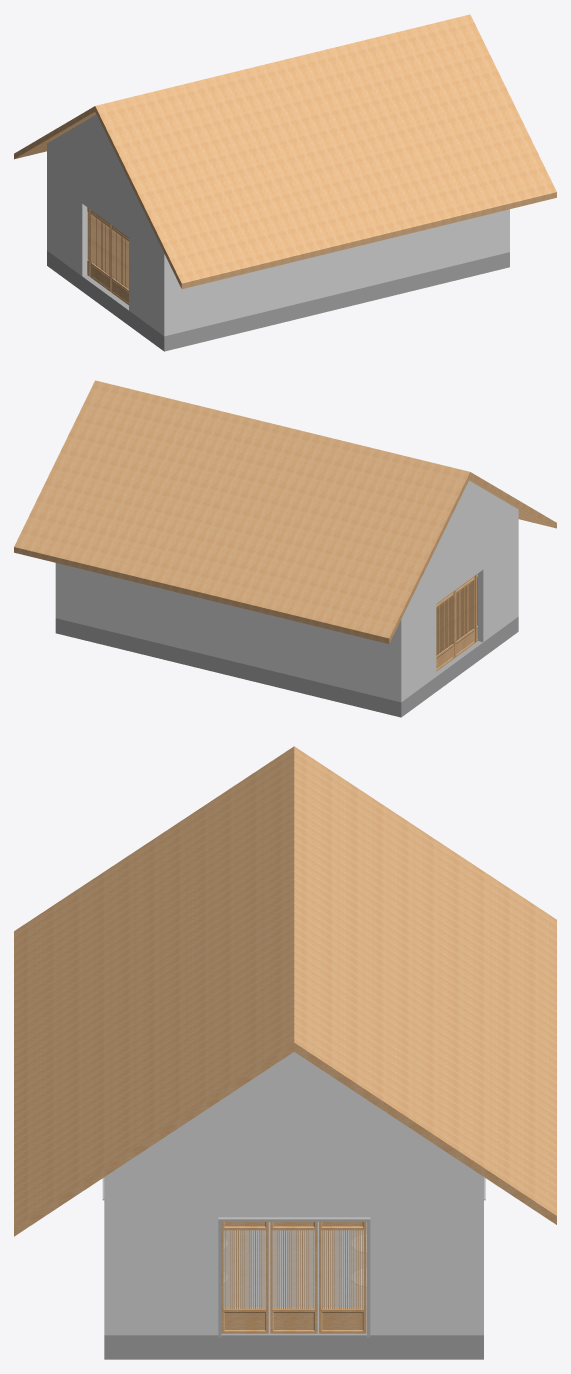
File: GalleryNew.fbx
The picture shows the model from 3 angles, top to bottom: view 1: azimuth 30°, elevation 25°; view 2: azimuth 150°, elevation 25°; view 3: azimuth 270°, elevation 25°; orthographic projection. The views are drawn at different scales.
Visible parts, largest first — view 1: Layer0, wall, Object_11; view 2: Layer0, wall, Object_11; view 3: Layer0, wall, Object_11, Roof_02.
Boxes of the visible parts, box(x1,y1,x2,y2) form: Layer0: box(14, 14, 556, 304); wall: box(47, 114, 509, 336); Object_11: box(47, 251, 509, 351); Layer0: box(14, 380, 556, 671); wall: box(55, 480, 518, 702); Object_11: box(55, 617, 518, 717); Layer0: box(14, 746, 556, 1333); wall: box(104, 1052, 483, 1335); Object_11: box(104, 1222, 483, 1359); Roof_02: box(218, 1217, 370, 1337).
Size of the model in its own units: 3319 by 1736 by 2570.
